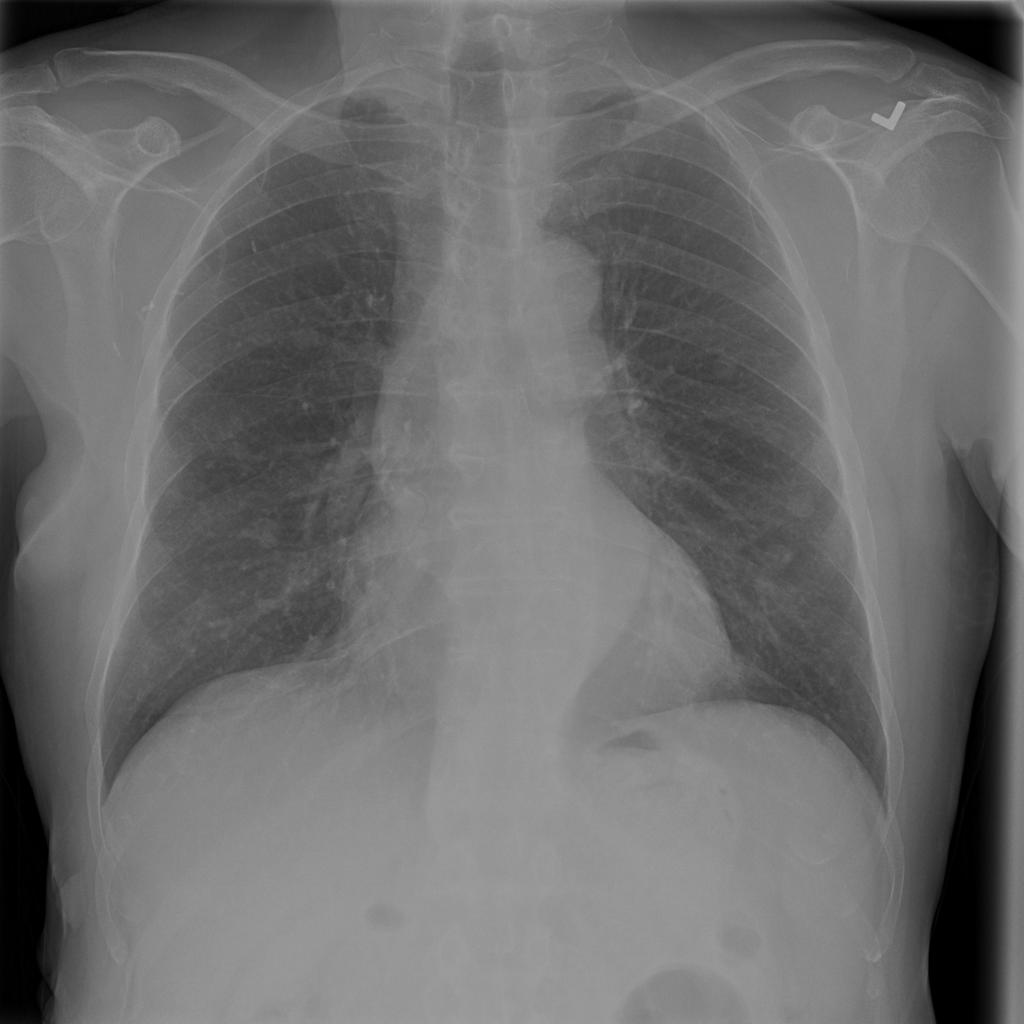nodule: (748, 536, 803, 584), (703, 340, 752, 392), (775, 478, 827, 527), (242, 509, 291, 561), (280, 312, 333, 360), (749, 410, 800, 456)
